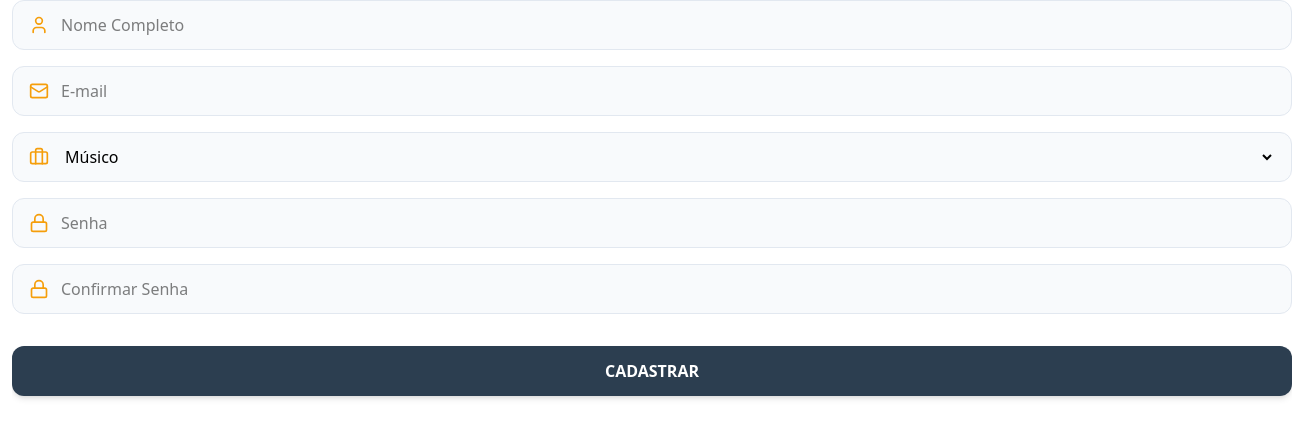
Test case: RegisterForm Component › Casos Negativos › deve exibir erro se as senhas digitadas forem diferentes
In the field with placeholder "Nome Completo": (668, 25) [61,13,1275,37], type "Lucas Teste"
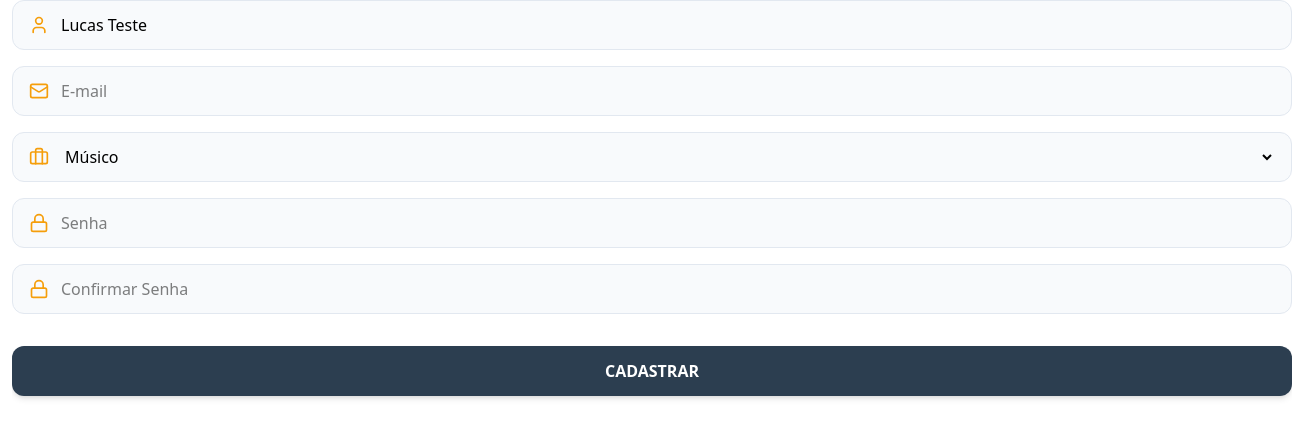
In the field with placeholder "E-mail": (668, 91) [61,79,1275,103], type "teste@myroadie.br"
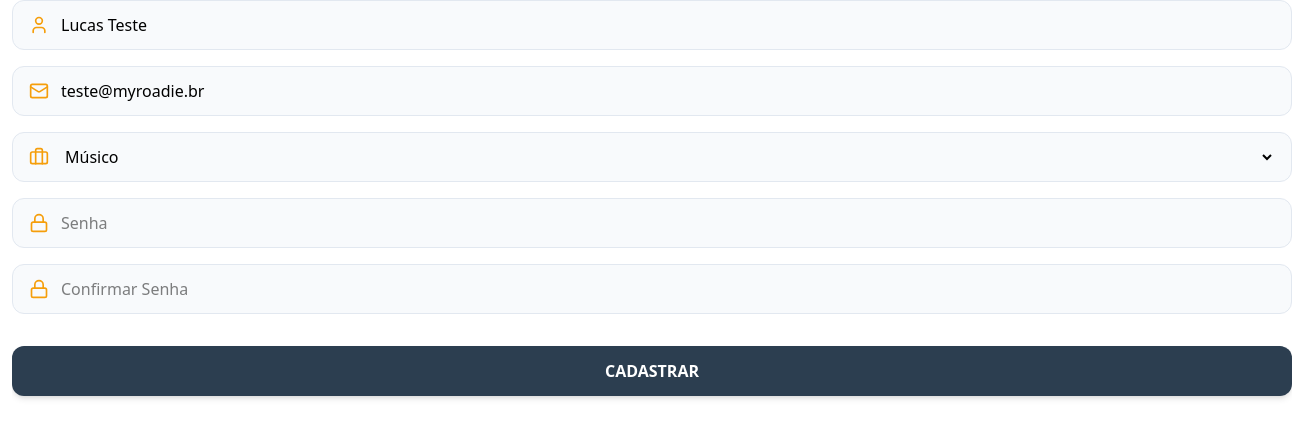
In the password field with placeholder "Senha": (668, 223) [61,211,1275,235], type "123456"
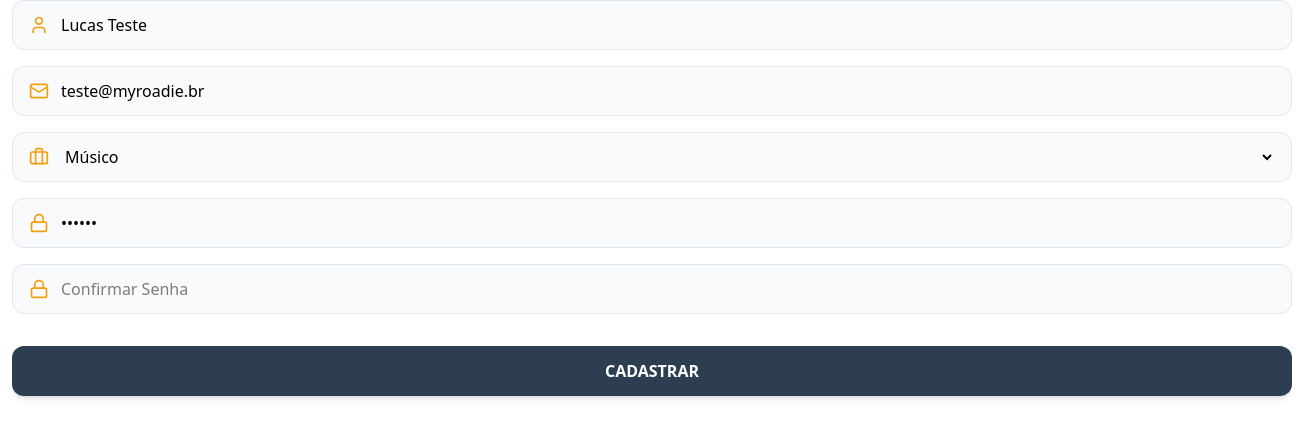
In the password field with placeholder "Confirmar Senha": (668, 289) [61,277,1275,301], type "654321"
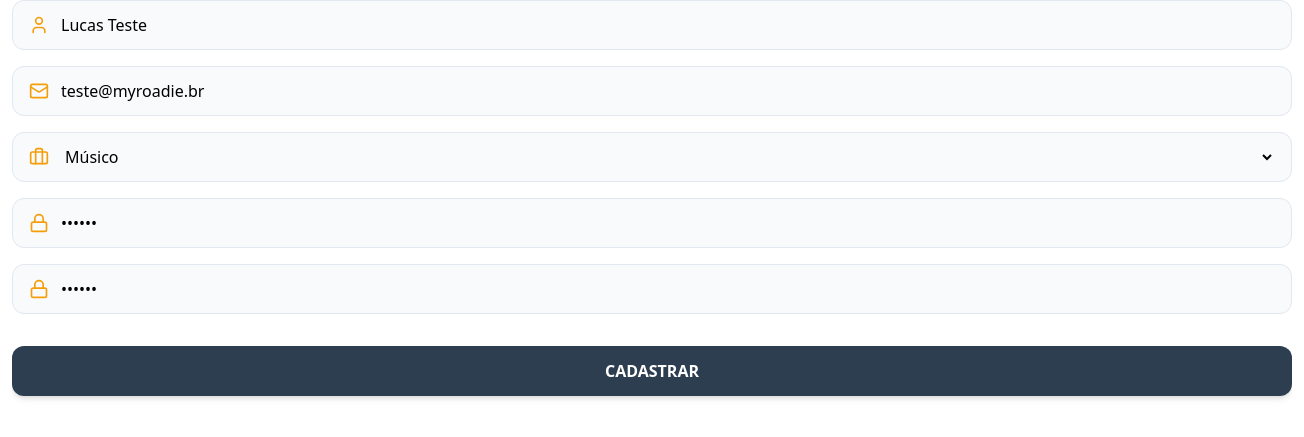
Click the button "CADASTRAR": click(652, 371) [12,346,1292,396]
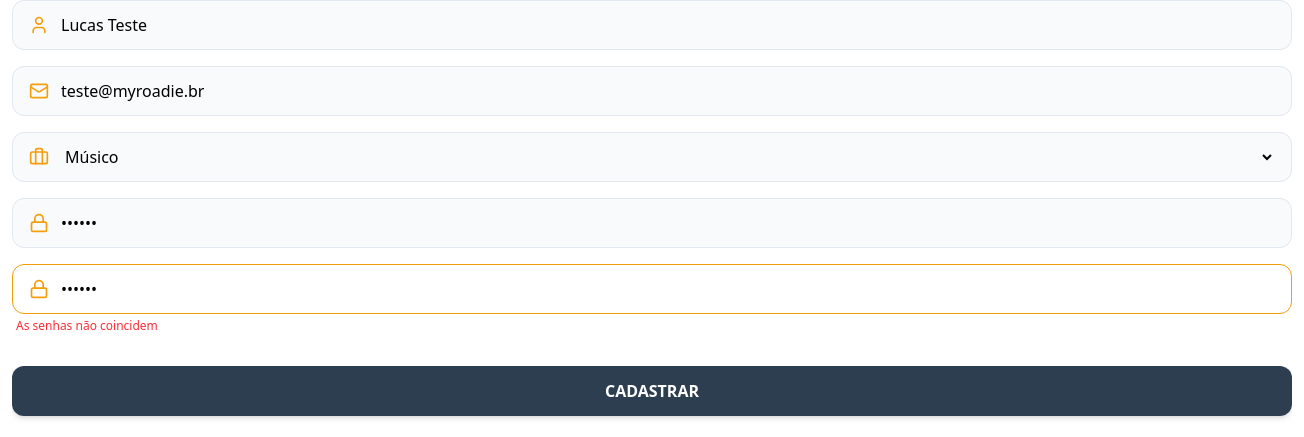
Check: the text "As senhas não coincidem" is shown, box [16,317,158,334]
